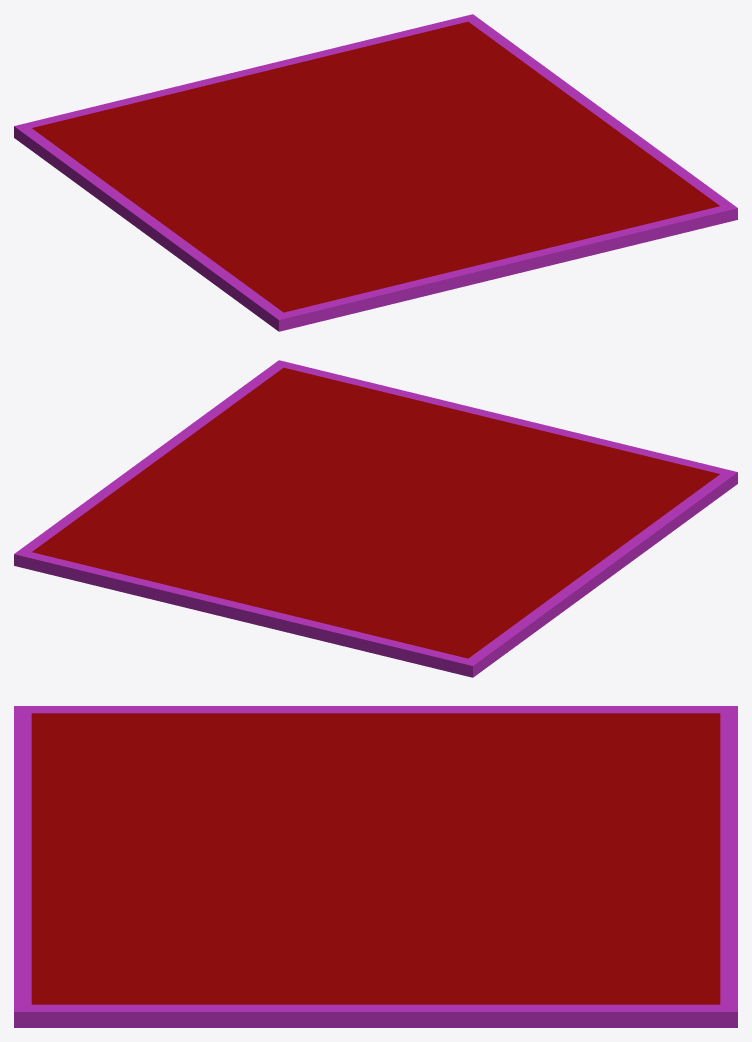
The model's file is polina2.obj.
3 renders of one model, top to bottom at view 1: azimuth 30°, elevation 25°; view 2: azimuth 150°, elevation 25°; view 3: azimuth 270°, elevation 25°, orthographic. The views are drawn at different scales.
Size of the model in its own units: 4.1 by 0.1 by 4.1.
Materials: 1 (1 with a texture image).
